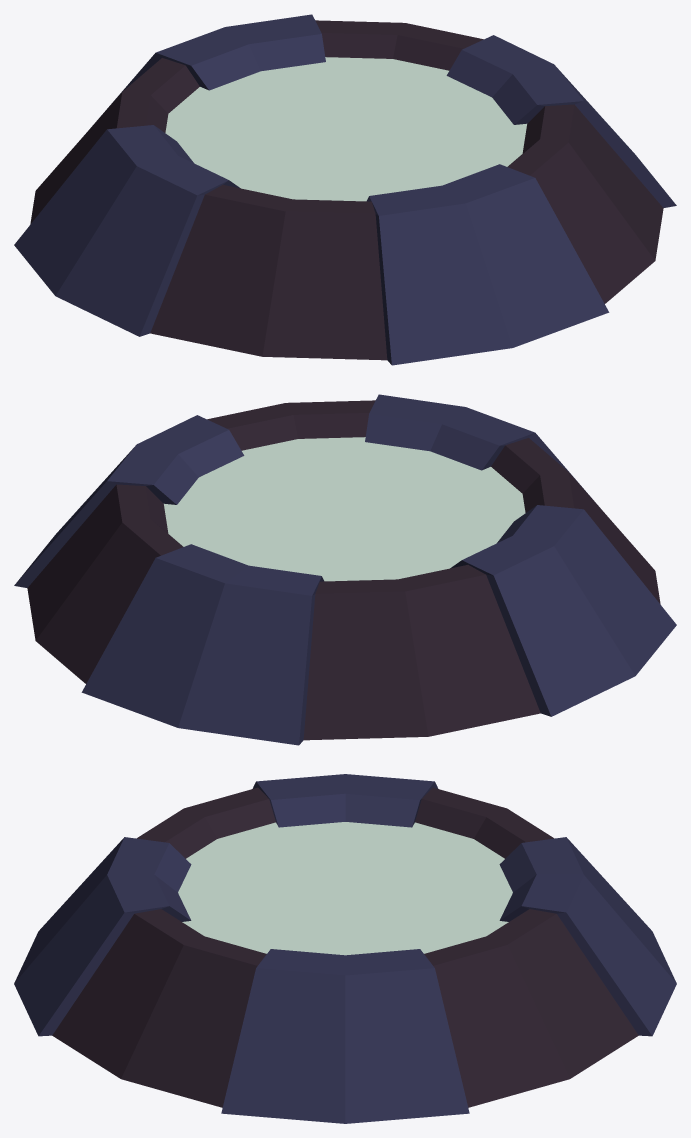
File: Pedestal.fbx
3 renders of one model, top to bottom at view 1: azimuth 30°, elevation 25°; view 2: azimuth 150°, elevation 25°; view 3: azimuth 270°, elevation 25°, orthographic.
Parts seen in each view (by area): view 1: Pedastal; view 2: Pedastal; view 3: Pedastal.
Part boxes in pixels (x1,y1,x2,y2): Pedastal: [14, 14, 676, 365]; Pedastal: [14, 394, 676, 745]; Pedastal: [14, 774, 676, 1123].
Bounding box in the file's own units: 503 × 91.86 × 503.
